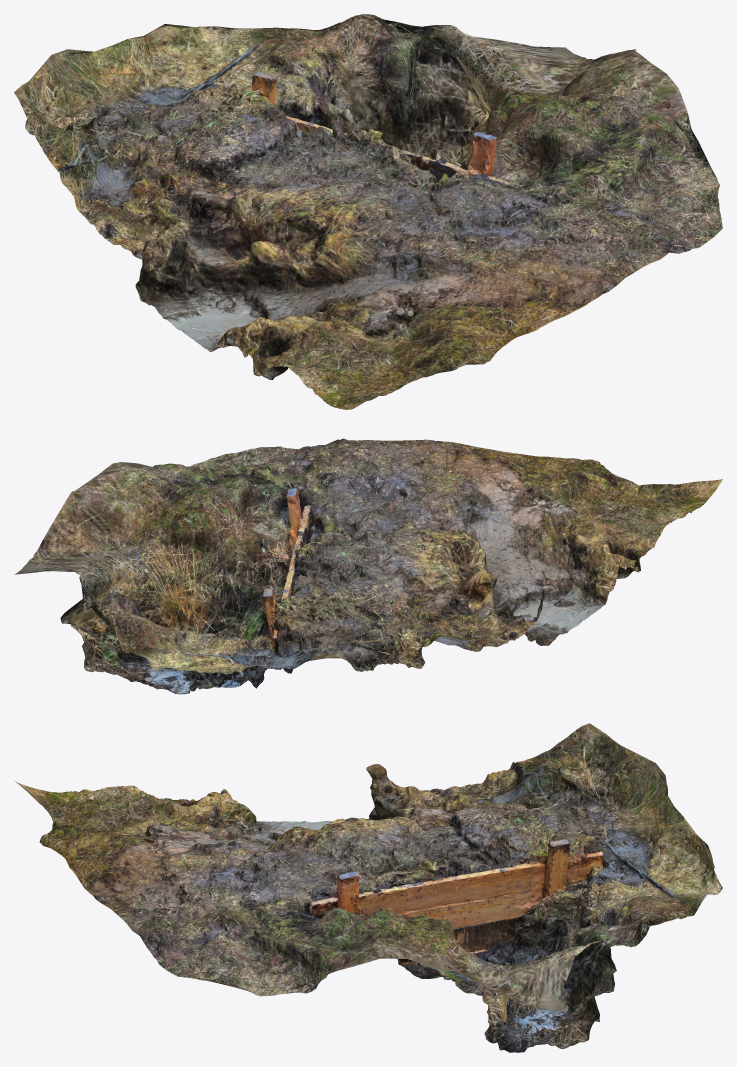
File: Composite_Timber_Dam.glb
3 renders of one model, top to bottom at view 1: azimuth 30°, elevation 25°; view 2: azimuth 150°, elevation 25°; view 3: azimuth 270°, elevation 25°, orthographic. The views are drawn at different scales.
Bounding box in the file's own units: 2.85 × 0.9013 × 3.83.
Materials: 1 (1 with a texture image).
